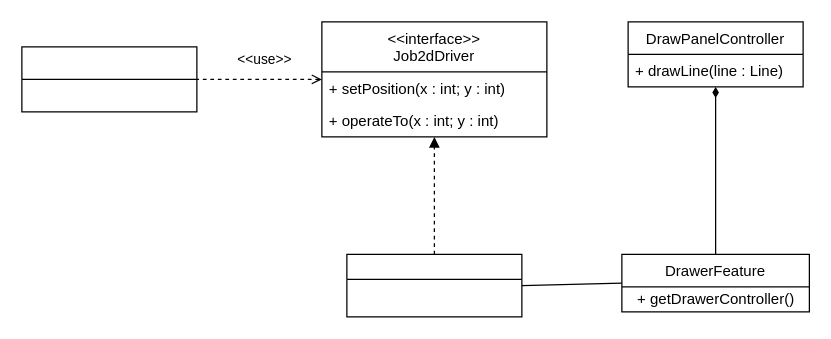
The diagram is 831 pixels wide and 339 high, and some of its shapes have lost their labels. The centre of each missing label's shape, as x and y in pixels:
"Client" belongs at [109,79].
"DrawerAdapter" belongs at [434,285].
